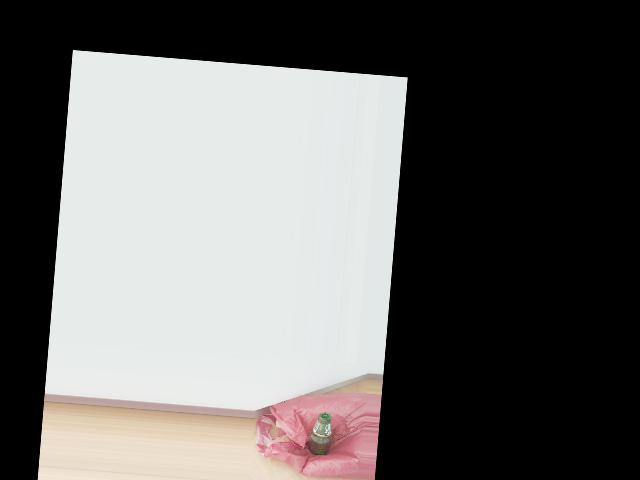beer: (307, 411, 335, 456)
